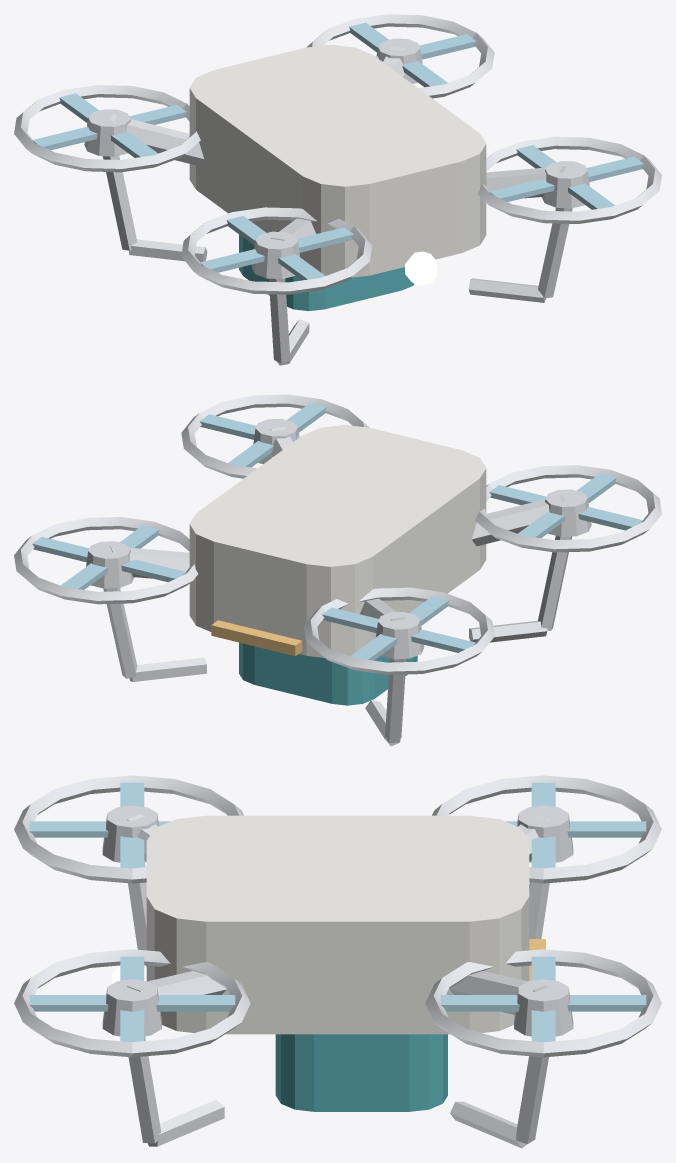
The model's file is arcology-towers-and-skyways-courier-drone-8491fcf3__23276.glb.
The picture shows the model from 3 angles, top to bottom: view 1: azimuth 30°, elevation 25°; view 2: azimuth 150°, elevation 25°; view 3: azimuth 270°, elevation 25°; orthographic projection. The views are drawn at different scales.
Parts seen in each view (by area): view 1: courier-drone, rotor-front-left, rotor-front-right, rotor-rear-left, rotor-rear-right; view 2: courier-drone, rotor-rear-left, rotor-rear-right, rotor-front-left, rotor-front-right; view 3: courier-drone, rotor-front-right, rotor-rear-right, rotor-front-left, rotor-rear-left.
Part boxes in pixels (bbox=[...]): courier-drone: bbox=[14, 14, 661, 365]; rotor-front-left: bbox=[199, 216, 353, 280]; rotor-front-right: bbox=[489, 145, 643, 209]; rotor-rear-left: bbox=[32, 93, 186, 157]; rotor-rear-right: bbox=[349, 22, 476, 87]; courier-drone: bbox=[14, 394, 661, 746]; rotor-rear-left: bbox=[322, 596, 475, 660]; rotor-rear-right: bbox=[32, 525, 186, 589]; rotor-front-left: bbox=[489, 473, 643, 537]; rotor-front-right: bbox=[199, 403, 326, 467]; courier-drone: bbox=[14, 775, 661, 1148]; rotor-front-right: bbox=[29, 956, 235, 1042]; rotor-rear-right: bbox=[440, 956, 646, 1042]; rotor-front-left: bbox=[29, 782, 170, 868]; rotor-rear-left: bbox=[505, 782, 646, 868].
Bounding box in the file's own units: 2.71 × 0.94 × 2.71.
